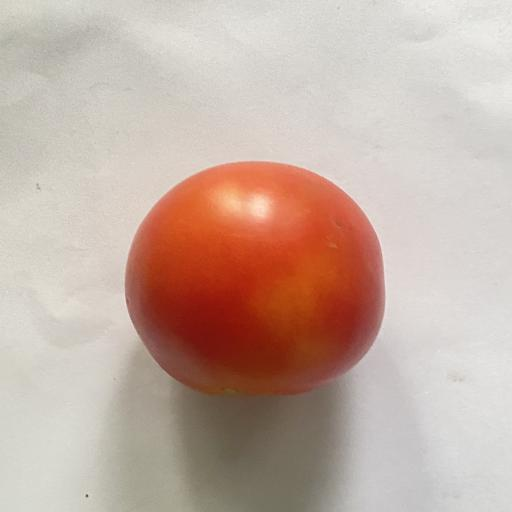ripe: (125, 162, 385, 395)
